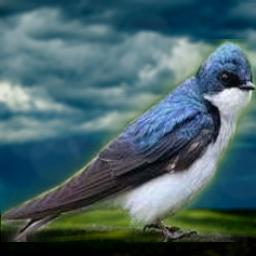Swallow: (1, 39, 256, 242)
